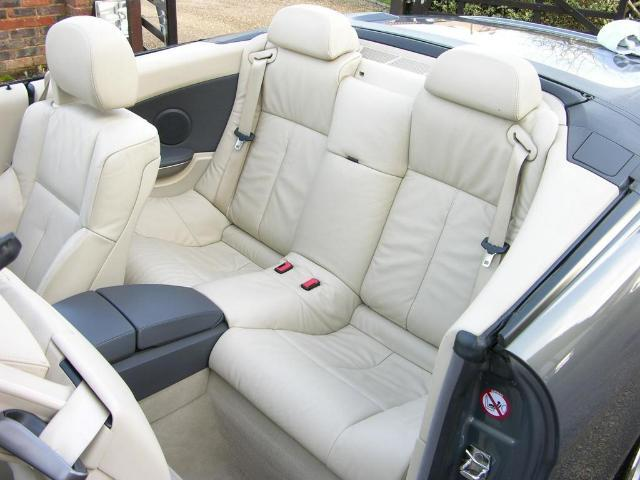Seatbelt: (459, 137, 525, 312), (13, 380, 112, 480), (213, 58, 269, 216)
